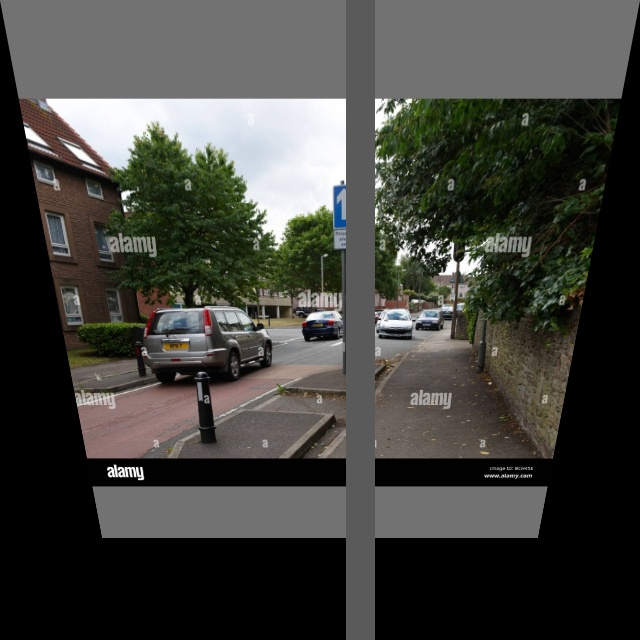Priority_for_Oncoming_Traffic: (332, 183, 371, 228)
